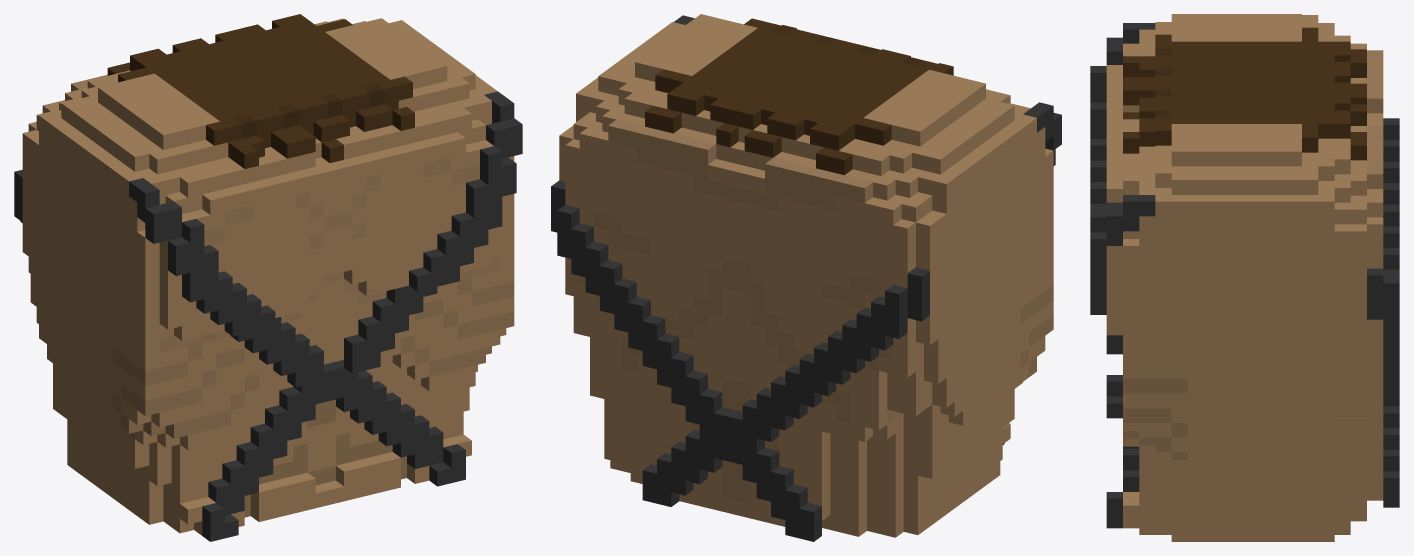
File: Minotaur1-10.obj
The picture shows the model from 3 angles, left to right: view 1: azimuth 30°, elevation 25°; view 2: azimuth 150°, elevation 25°; view 3: azimuth 270°, elevation 25°; orthographic projection.
Size of the model in its own units: 2.6 by 2.6 by 1.9.
1 material, 1 textured.
